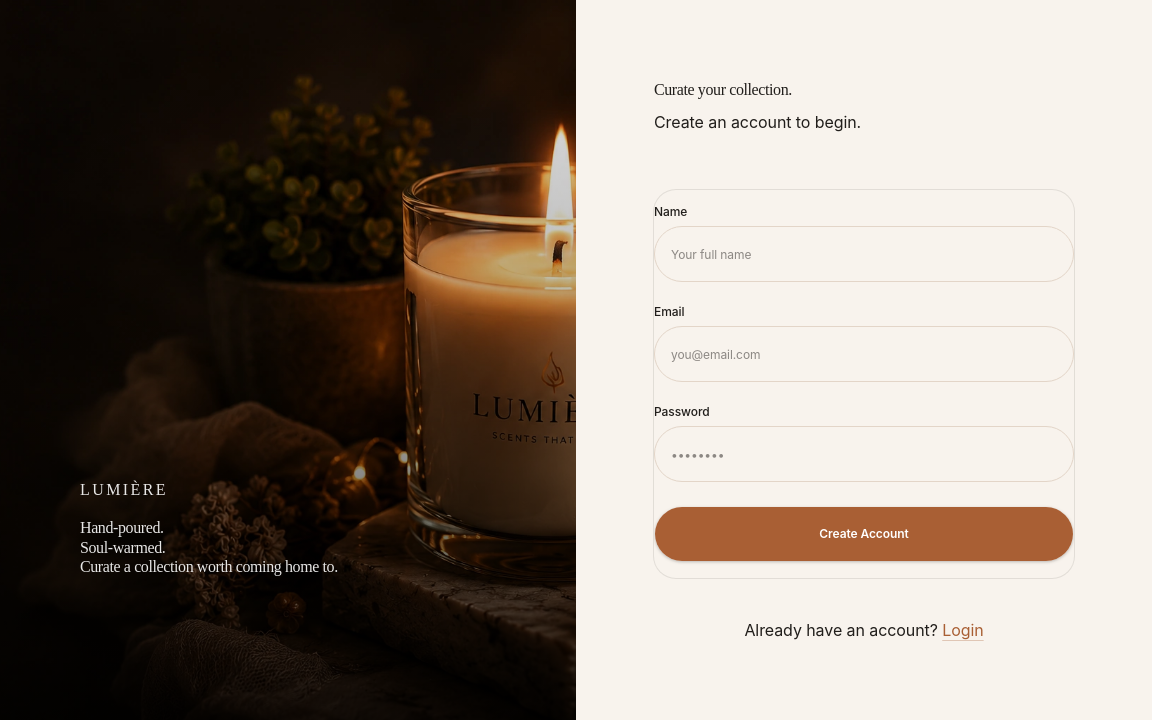
Test: RegisterPage › sets a root-level "Email already in use" message on a 409 conflict
Type "Jane" into the field labelled "Name". click: (864, 254)
box: [654,226,1074,282]
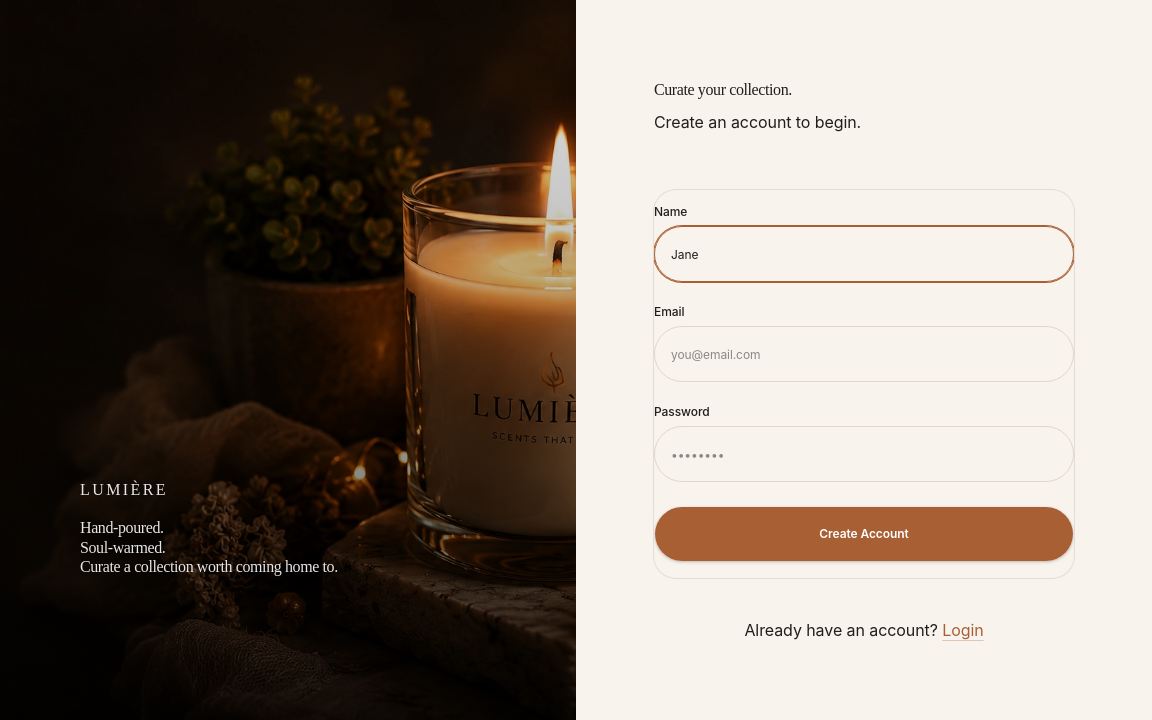
Type "jane@example.com" into the field labelled "Email". click: (864, 354)
box: [654,326,1074,382]
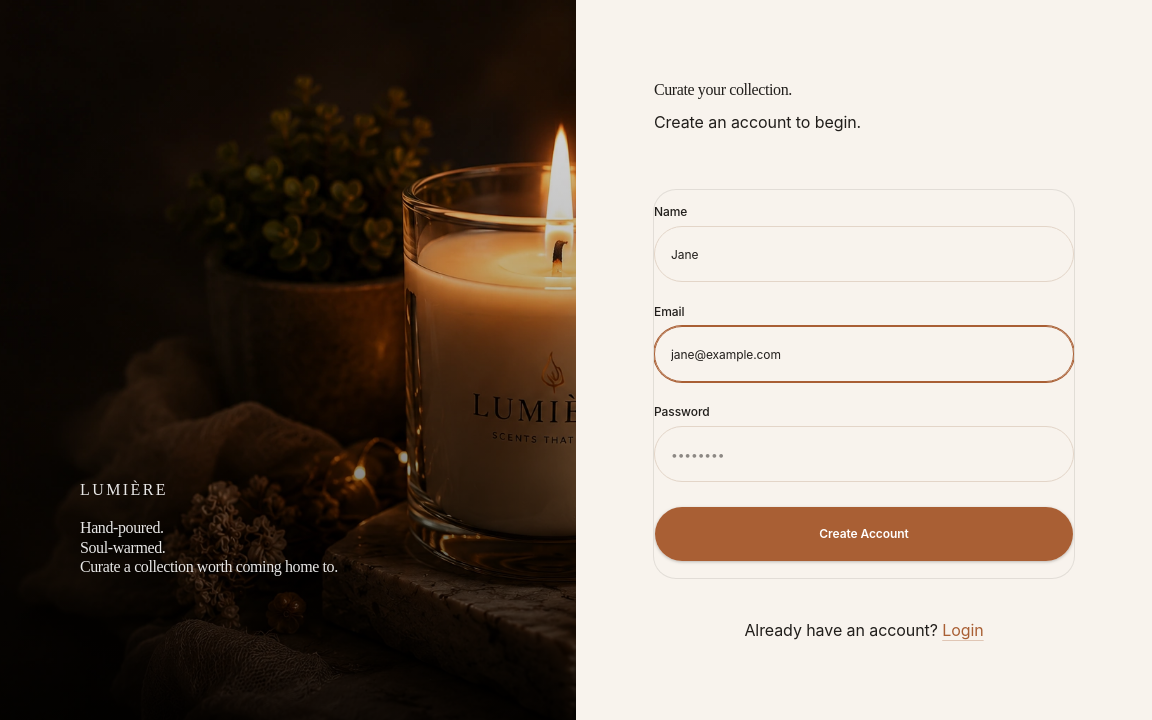
Type "password123" into the password field labelled "Password". click: (864, 454)
box: [654,426,1074,482]
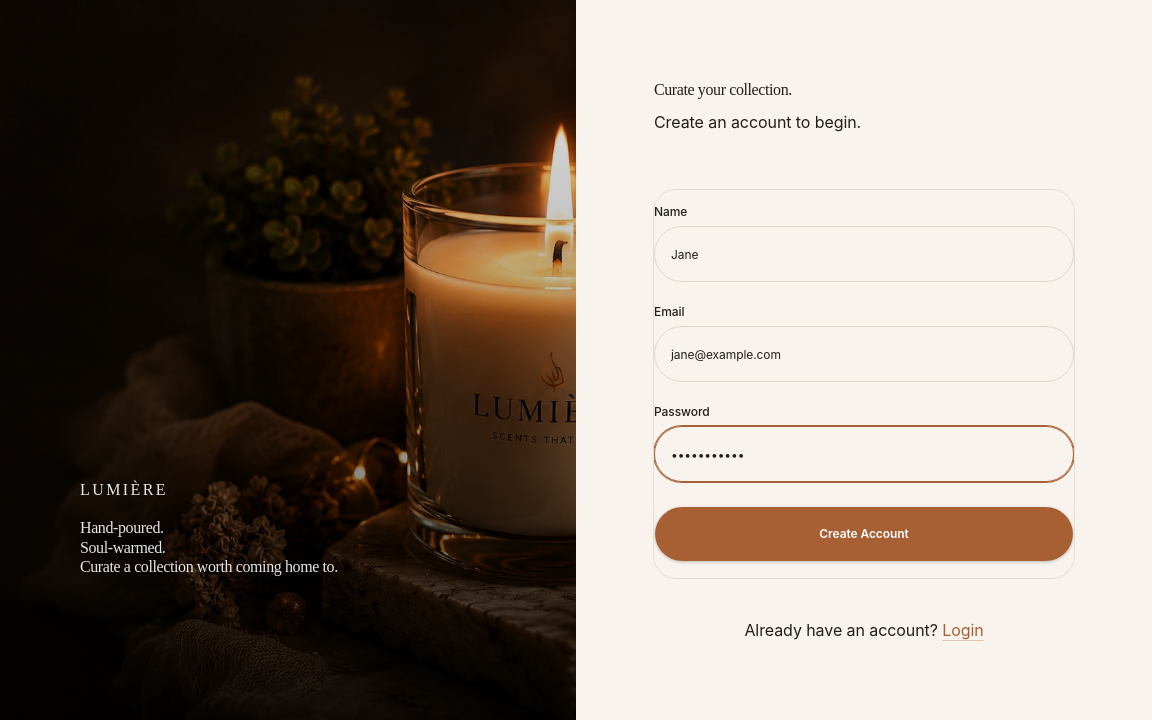
Click the button "Create Account". click: (864, 534)
box: [654,506,1074,562]
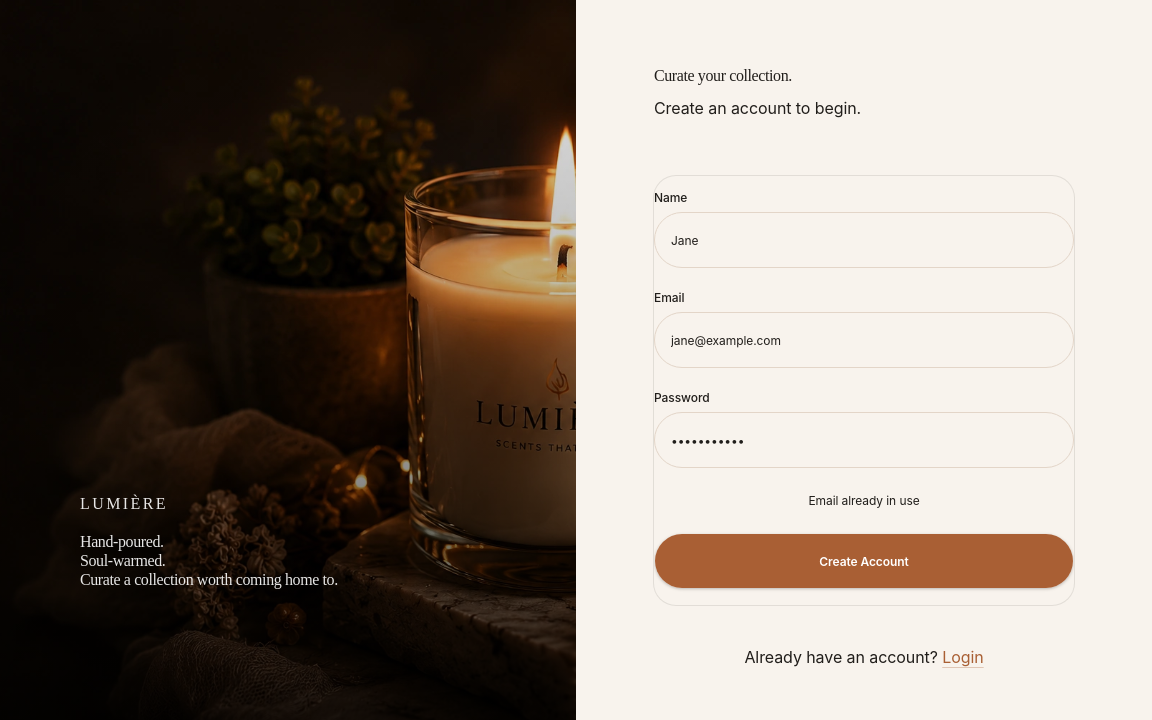
Check: the text "Email already in use" is shown, box [808,493,920,508]
